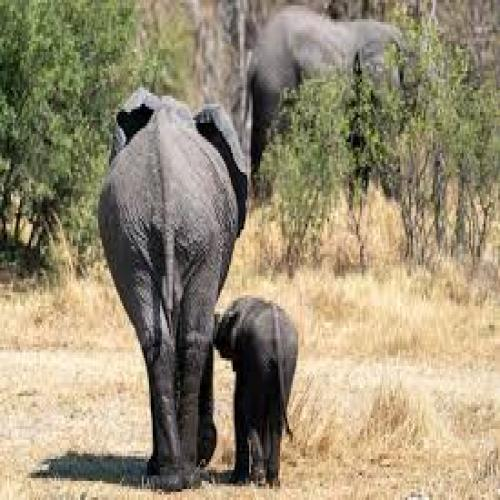asian_elephant-endangered: (98, 92, 248, 488), (250, 12, 404, 184), (214, 295, 299, 480)
